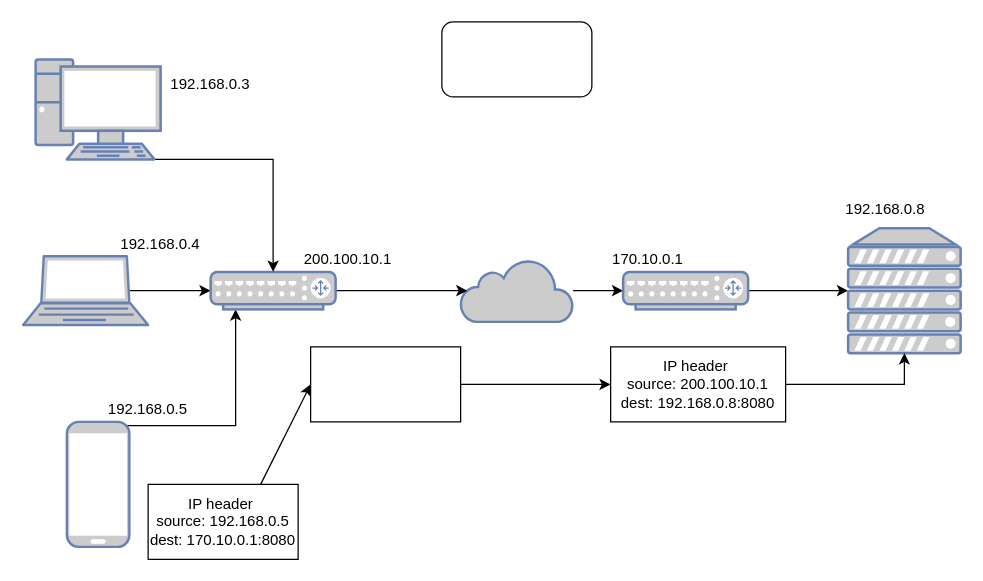
Image size: 983x581. Some labels were removed from this diagram. Here are the shapes that lost their labels. From the top down, the centre of each, then its label:
At pixel 516 59: "NAT".
At pixel 385 384: "IP header source: 200.100.10.1 dest: 170.10.0.1:8080".
